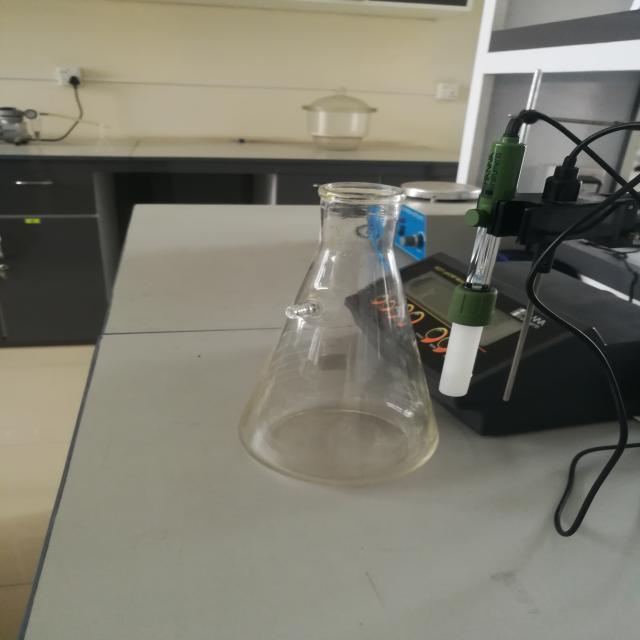Conical_Flask: (211, 162, 495, 516)
